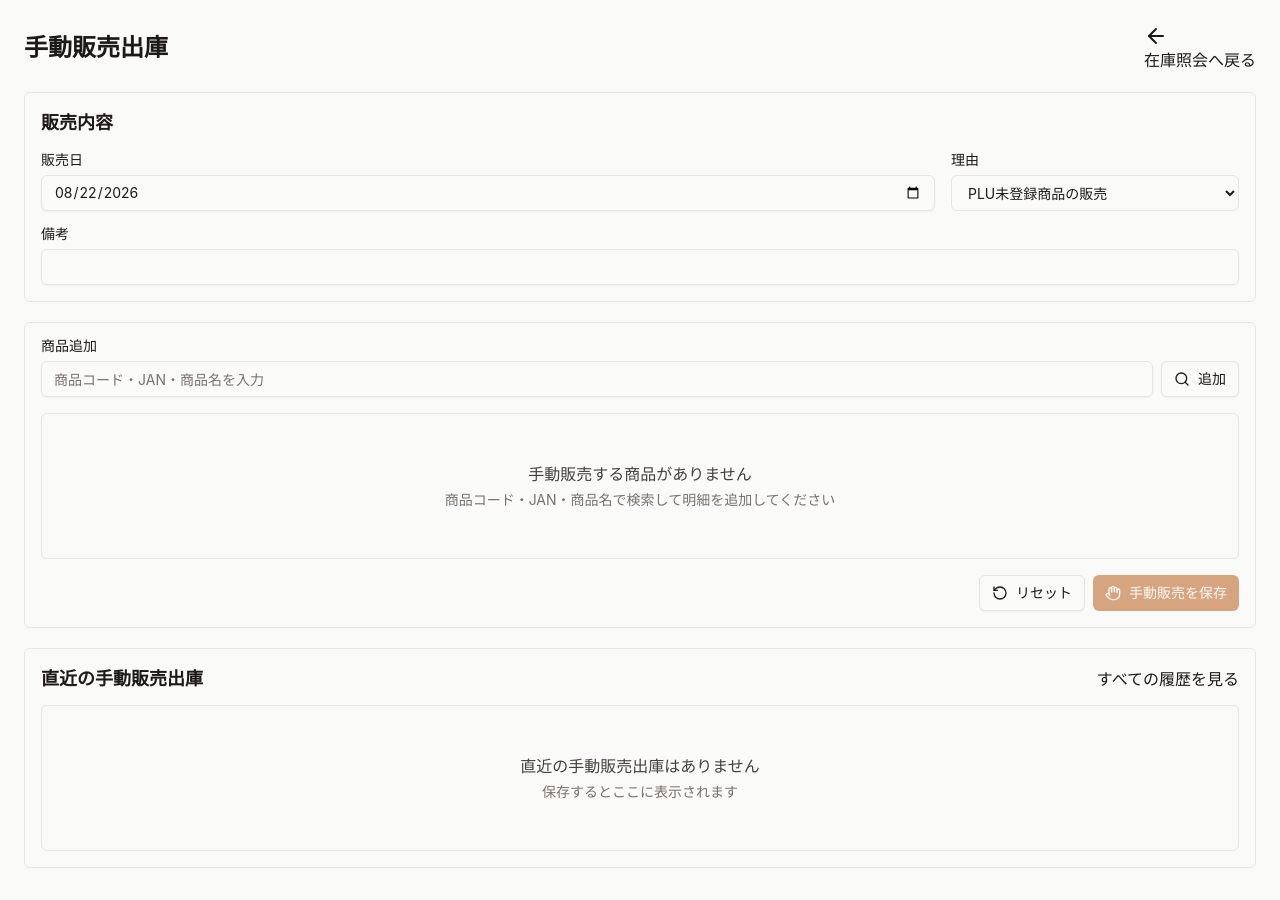
Test: ManualSalePage (UI-04 / REQ-203) › REQ-203 scrolls to the top when manual sale create fails
Type "MS-001" into the dropdown named "手動販売商品検索" at (597,379), box [41,361,1153,397]
Then press Enter
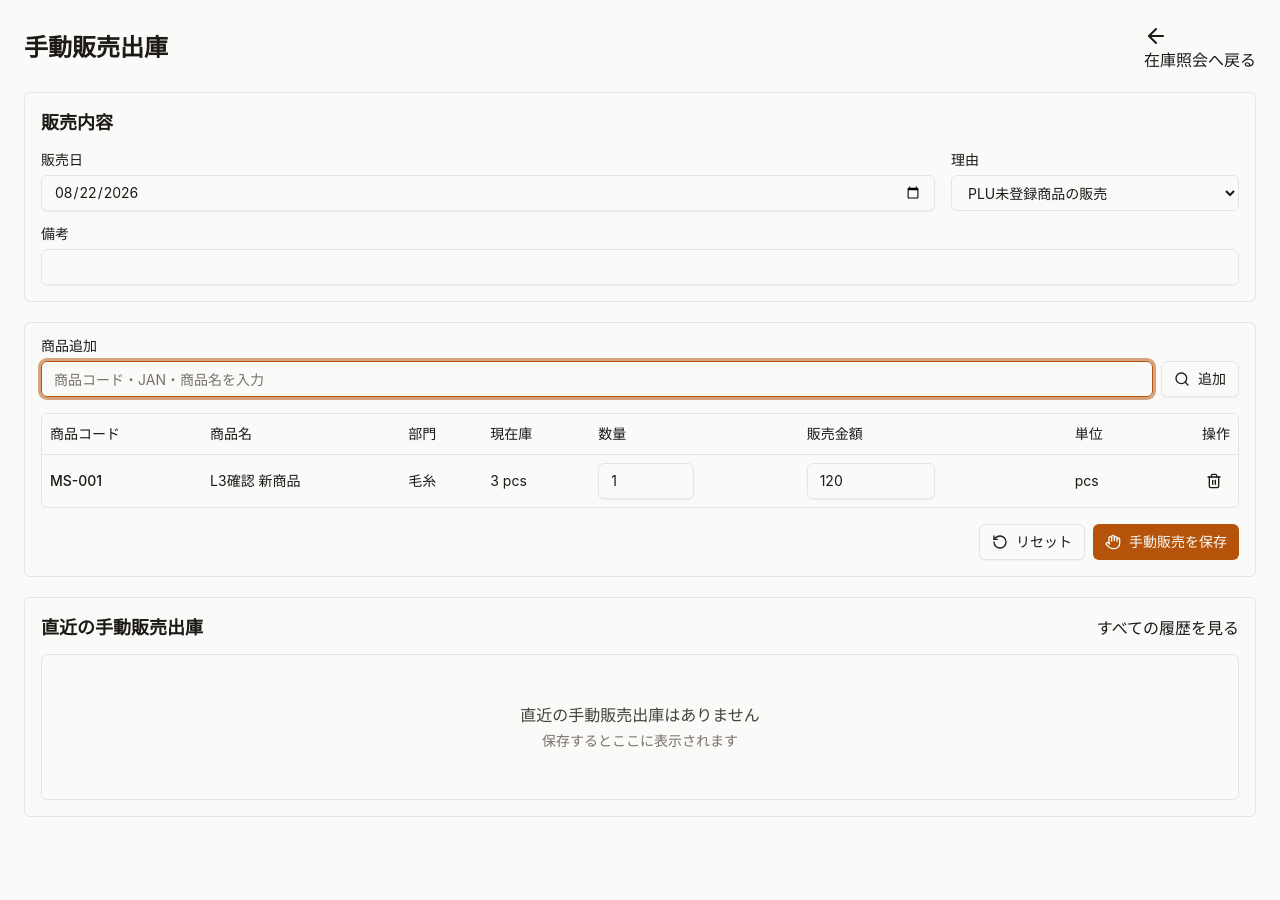
Result: the text "MS-001" is shown at [42,454,202,506]
Click the button "手動販売を保存" at (1166,542), box [1093,524,1239,560]
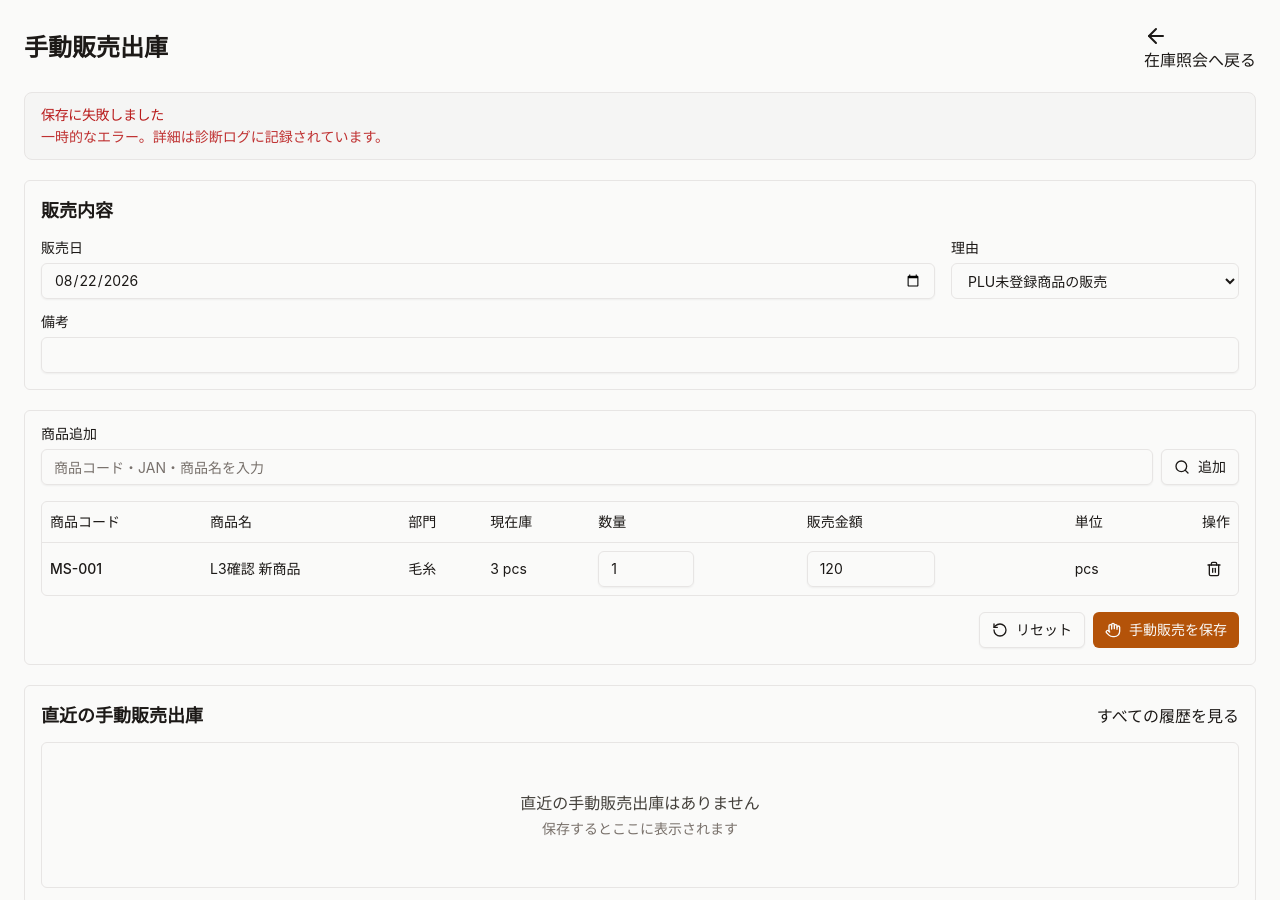
Result: the text "一時的なエラー。詳細は診断ログに記録されています。" is shown at [41,128,389,145]
